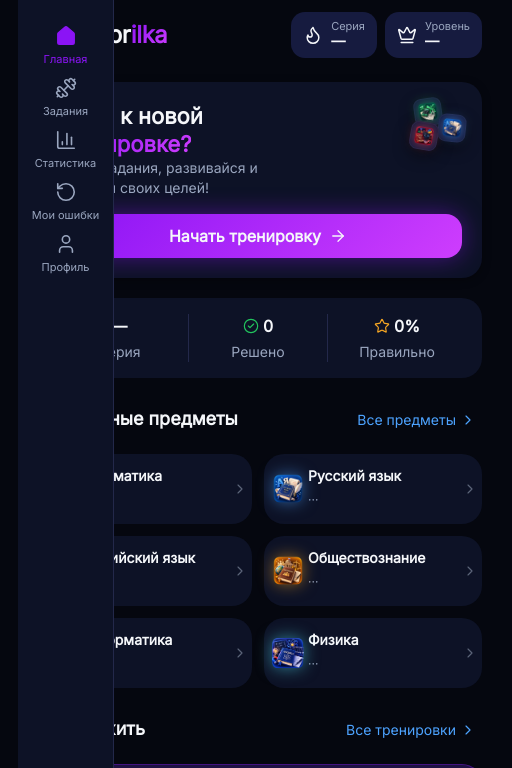
AppMobile — bottom nav (Главная/Задания/Статистика/Мои ошибки/Профиль) › "Мои ошибки" opens the real Mistakes screen directly, with the bottom nav still visible
The width and height of the screenshot is (512, 768).
Step 1. Click the button "Мои ошибки" → (66, 202), box [18,180,113,224]
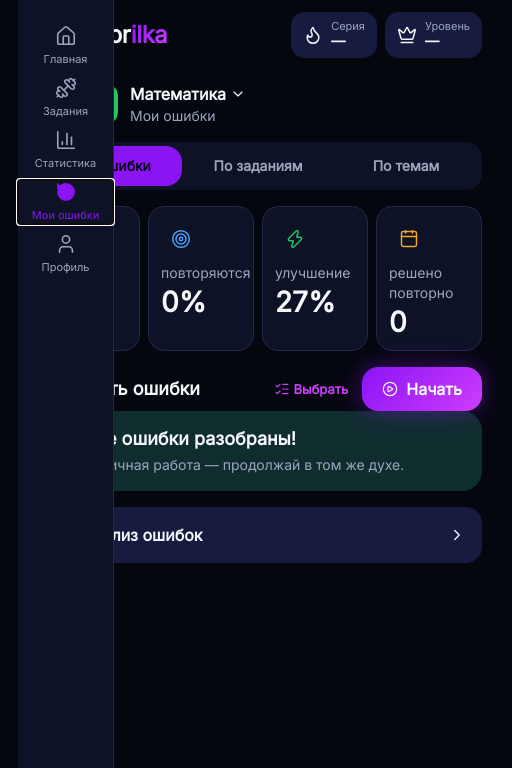
Expected: the button "Главная" is shown, [18,24,113,68]
Expected: the button "Мои ошибки" is marked as current, [18,180,113,224]
